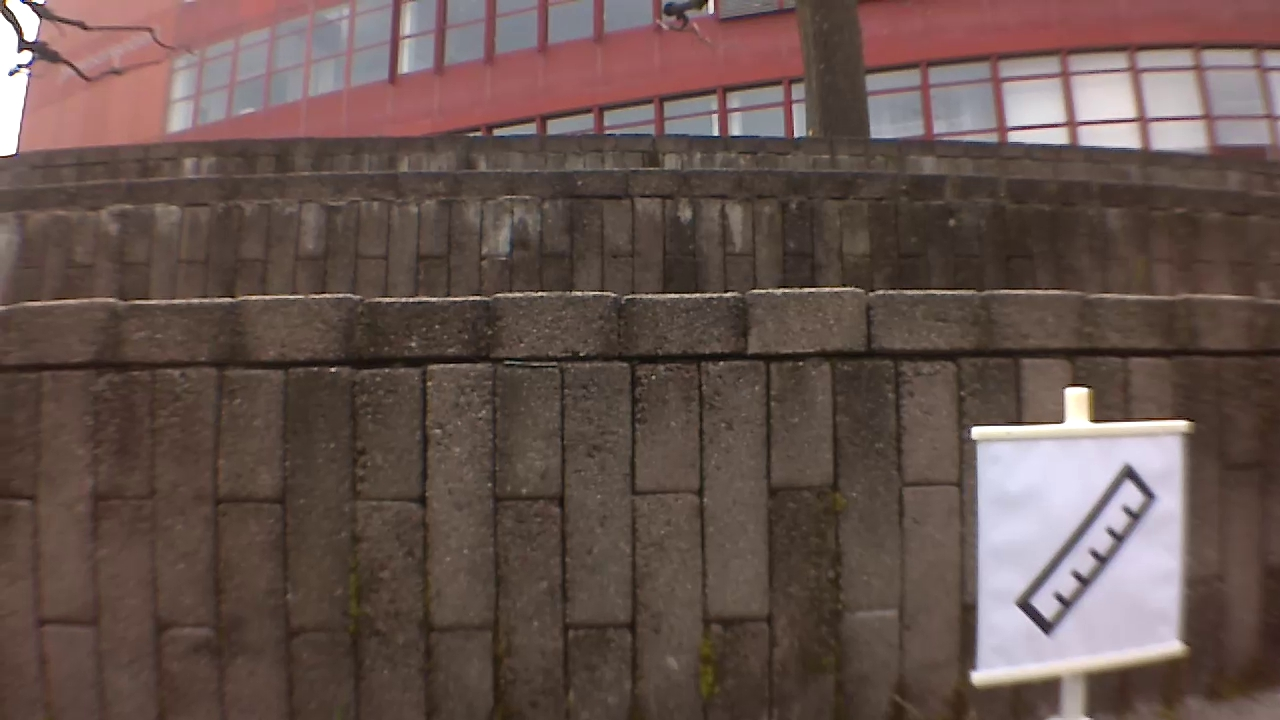ruler: (1013, 456, 1159, 636)
